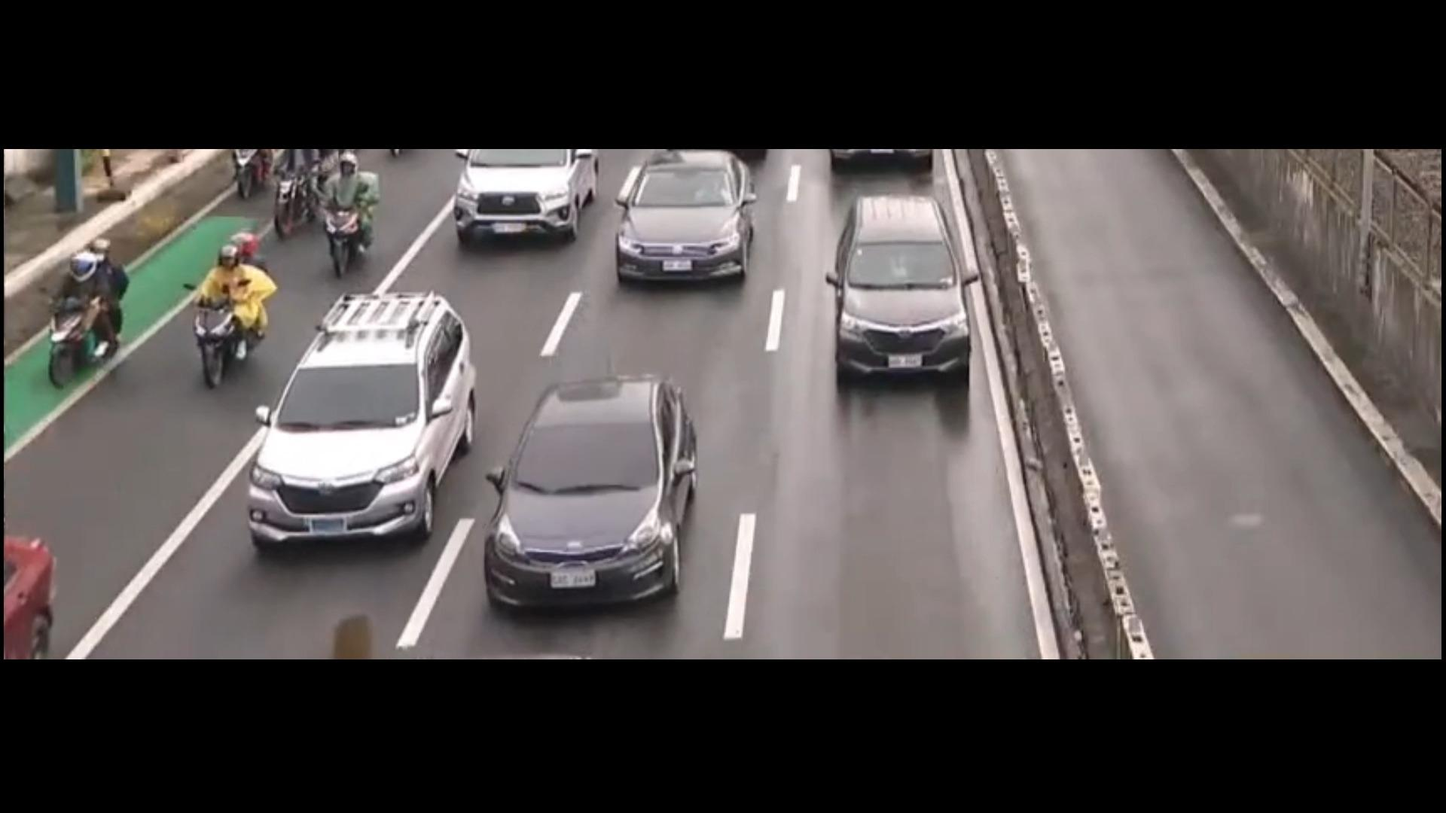Motorcycle: (36, 217, 145, 355), (188, 239, 277, 401), (317, 134, 383, 271), (270, 149, 329, 217), (230, 148, 260, 196)
SUV: (236, 262, 484, 581), (811, 177, 978, 404), (435, 140, 623, 253)
Sedan: (466, 350, 799, 615), (612, 143, 776, 294)
